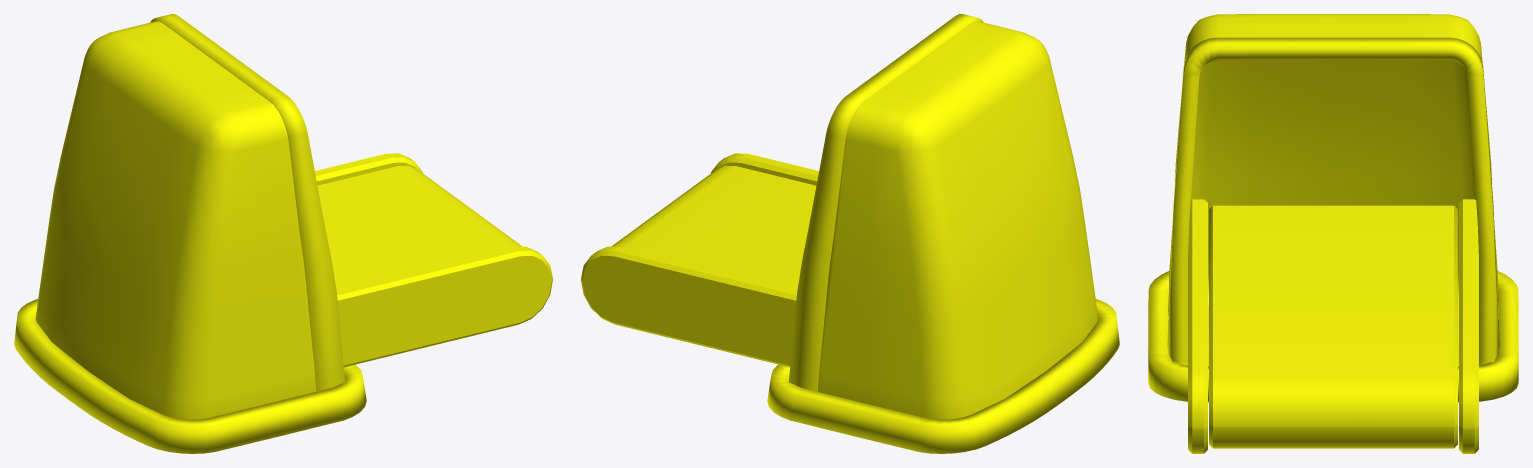
File: Tunnel_v3_.glb
The picture shows the model from 3 angles, left to right: view 1: azimuth 30°, elevation 25°; view 2: azimuth 150°, elevation 25°; view 3: azimuth 270°, elevation 25°; orthographic projection. The views are drawn at different scales.
Visible parts, largest first — view 1: Tunnel_v3_, Tunnel_v2_.002; view 2: Tunnel_v3_, Tunnel_v2_.002; view 3: Tunnel_v3_, Tunnel_v2_.002.
Boxes of the visible parts, box(x1,y1,x2,y2) form: Tunnel_v3_: box(14, 14, 366, 453); Tunnel_v2_.002: box(315, 153, 552, 367); Tunnel_v3_: box(767, 14, 1119, 453); Tunnel_v2_.002: box(581, 153, 818, 367); Tunnel_v3_: box(1148, 14, 1518, 402); Tunnel_v2_.002: box(1188, 199, 1478, 453).
Size of the model in its own units: 3.63 by 2.55 by 2.62.
Materials: 1 (1 with a texture image).
